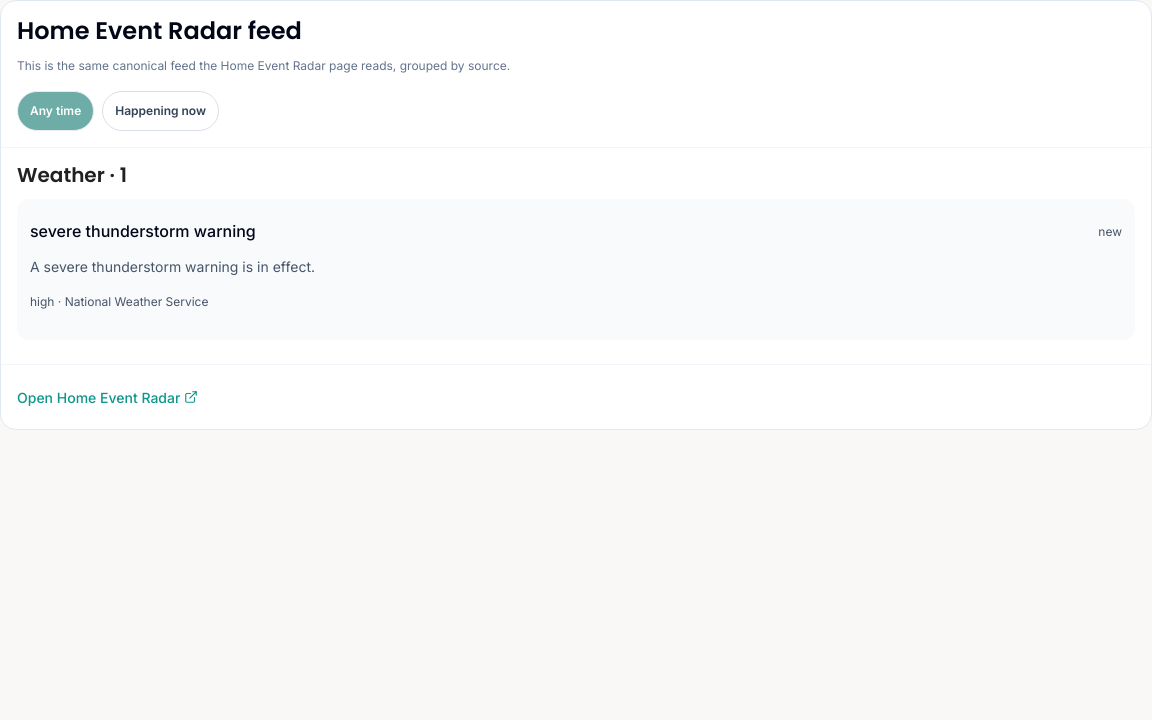
Test: a done event hides Save, Dismiss and Mark done and says where to change it
Click the button "severe thunderstorm warning" at (143, 232), box 30,212 -> 256,252
(page scrolled)
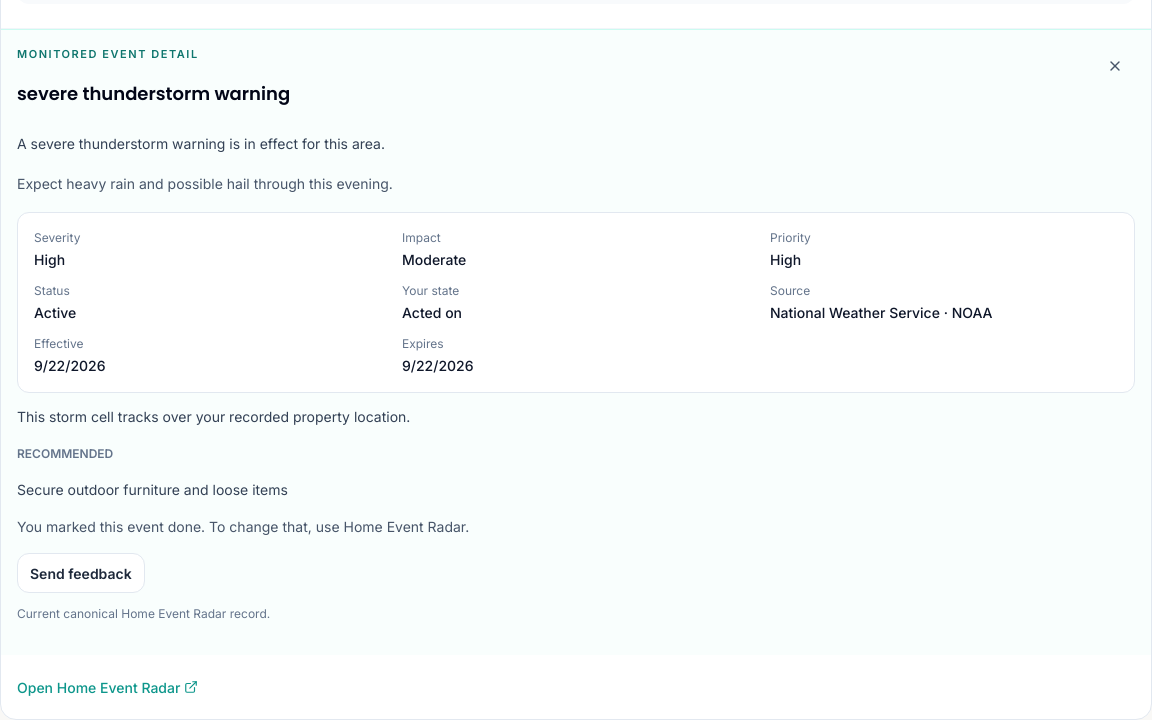
Expected: the text "Expect heavy rain and possible hail through this evening." is shown, 17,175 -> 393,192
Expected: the text "You marked this event done" is shown, 17,518 -> 469,535
